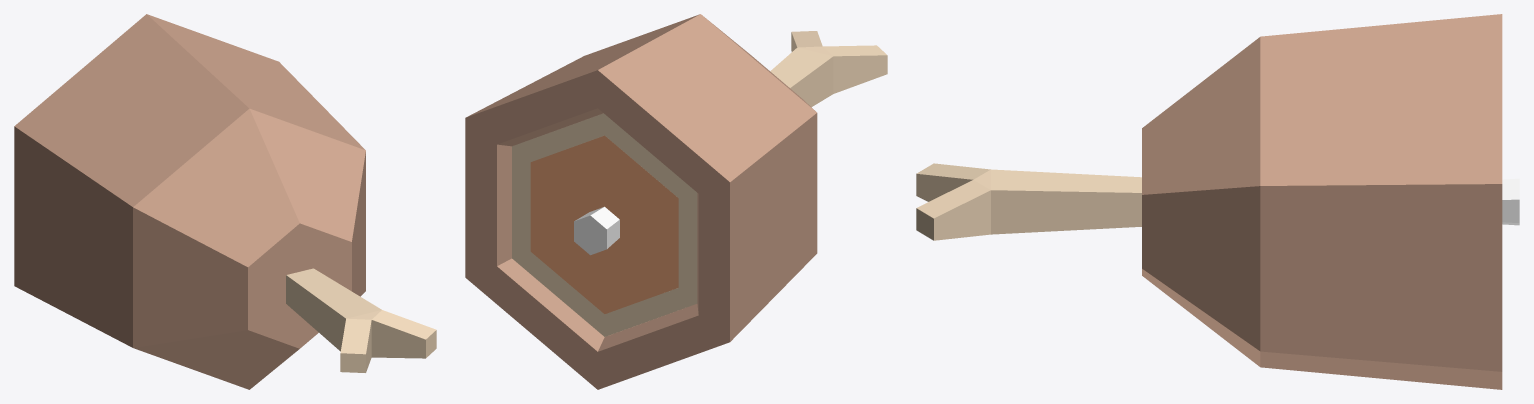
Rendered from ham.fbx.
3 views of the same model, side by side, from view 1: azimuth 30°, elevation 25°; view 2: azimuth 150°, elevation 25°; view 3: azimuth 270°, elevation 25° (orthographic). The views are drawn at different scales.
Parts seen in each view (by area): view 1: wholeHam; view 2: wholeHam; view 3: wholeHam.
Part boxes in pixels (x1,y1,x2,y2): wholeHam: (14,14,436,389); wholeHam: (465,14,887,389); wholeHam: (916,14,1519,389).
Size of the model in its own units: 0.381 by 0.4399 by 0.6397.
